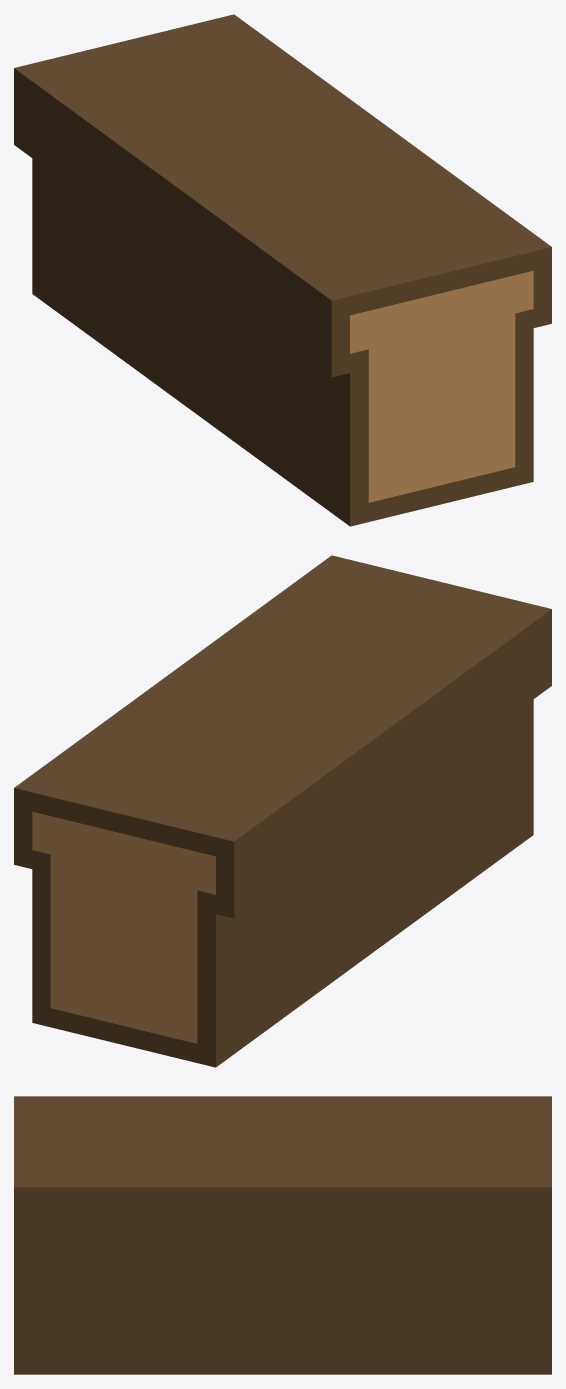
Rendered from loaf.obj.
3 views of the same model, one above another, from view 1: azimuth 30°, elevation 25°; view 2: azimuth 150°, elevation 25°; view 3: azimuth 270°, elevation 25° (orthographic). The views are drawn at different scales.
Bounding box in the file's own units: 1.2 × 1.2 × 3.
Materials: 1 (1 with a texture image).
